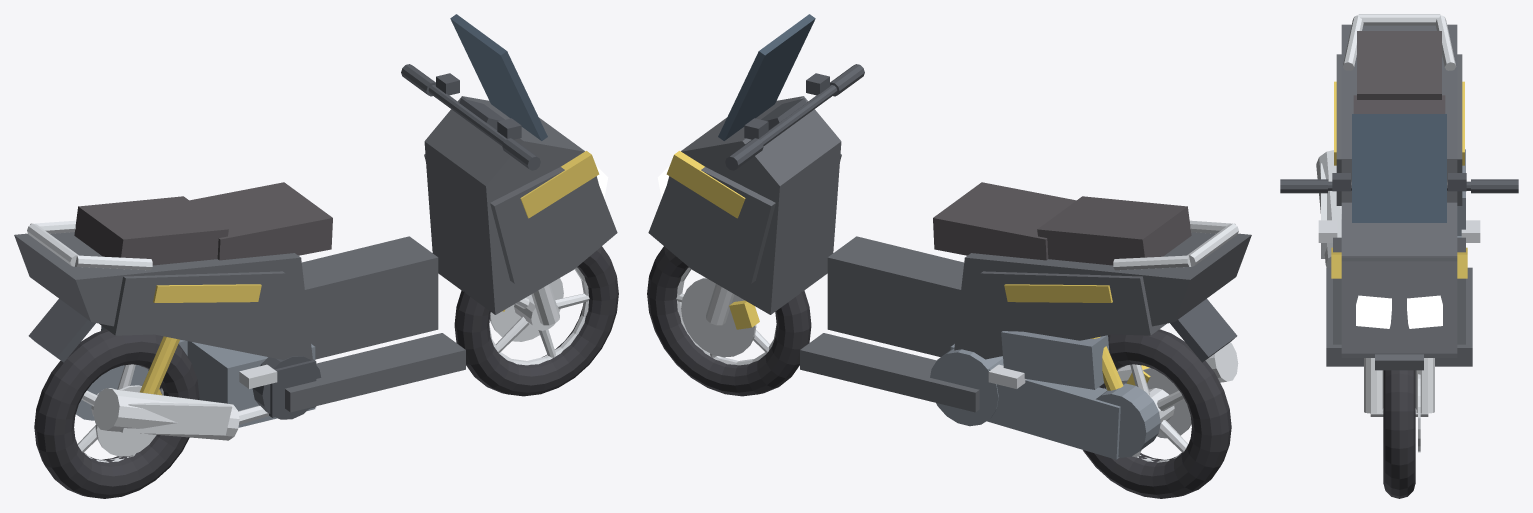
Rendered from yamaha-nmax-turbo-2024-2026.glb.
The picture shows the model from 3 angles, left to right: view 1: azimuth 30°, elevation 25°; view 2: azimuth 150°, elevation 25°; view 3: azimuth 270°, elevation 25°; orthographic projection. The views are drawn at different scales.
Visible parts, largest first — view 1: Bodi_Utama, Roda_Ban, Jok_Motor, Cover_Knalpot, Windshield_Visor, Aksen_Bodi, Mesin_Blok, Master_Rem_Stang, Velg_Roda, Cover_Radiator, Spakbor_Belakang, Behel_Jok (+6 smaller); view 2: Bodi_Utama, Roda_Ban, Cover_CVT, Jok_Motor, Windshield_Visor, Aksen_Bodi, Master_Rem_Stang, Piringan_Depan, Velg_Roda, Spakbor_Belakang, Behel_Jok, Piringan_Belakang (+3 smaller); view 3: Bodi_Utama, Windshield_Visor, Jok_Motor, Roda_Ban, Master_Rem_Stang, Lampu_Depan, Behel_Jok, Suspensi_Depan, Cover_Knalpot, Aksen_Bodi, Spakbor_Depan, Footstep_Belakang (+1 smaller).
Boxes of the visible parts, <box> form: Bodi_Utama: <box>14,96,617,412</box>; Roda_Ban: <box>34,246,618,498</box>; Jok_Motor: <box>74,182,332,265</box>; Cover_Knalpot: <box>93,388,268,440</box>; Windshield_Visor: <box>450,14,547,140</box>; Aksen_Bodi: <box>153,151,599,302</box>; Mesin_Blok: <box>187,341,315,427</box>; Master_Rem_Stang: <box>401,64,540,170</box>; Velg_Roda: <box>77,267,589,462</box>; Cover_Radiator: <box>252,356,321,419</box>; Spakbor_Belakang: <box>28,298,95,362</box>; Behel_Jok: <box>27,220,152,270</box>; Bodi_Utama: <box>648,96,1251,412</box>; Roda_Ban: <box>647,246,1231,498</box>; Cover_CVT: <box>930,331,1160,459</box>; Jok_Motor: <box>933,182,1191,265</box>; Windshield_Visor: <box>718,14,815,140</box>; Aksen_Bodi: <box>666,151,1112,302</box>; Master_Rem_Stang: <box>725,64,864,170</box>; Piringan_Depan: <box>681,277,756,357</box>; Velg_Roda: <box>676,267,1188,462</box>; Spakbor_Belakang: <box>1170,298,1237,362</box>; Behel_Jok: <box>1113,220,1238,270</box>; Piringan_Belakang: <box>1143,368,1191,438</box>; Bodi_Utama: <box>1326,24,1472,366</box>; Windshield_Visor: <box>1352,114,1446,222</box>; Jok_Motor: <box>1353,31,1445,113</box>; Roda_Ban: <box>1383,370,1415,498</box>; Master_Rem_Stang: <box>1280,173,1518,193</box>; Lampu_Depan: <box>1356,295,1442,328</box>; Behel_Jok: <box>1342,14,1456,70</box>; Suspensi_Depan: <box>1364,358,1434,416</box>; Cover_Knalpot: <box>1316,150,1341,267</box>; Aksen_Bodi: <box>1331,81,1467,278</box>; Spakbor_Depan: <box>1375,354,1423,370</box>; Footstep_Belakang: <box>1318,220,1480,242</box>.
Bounding box in the file's own units: 1.85 × 1.14 × 0.7.
